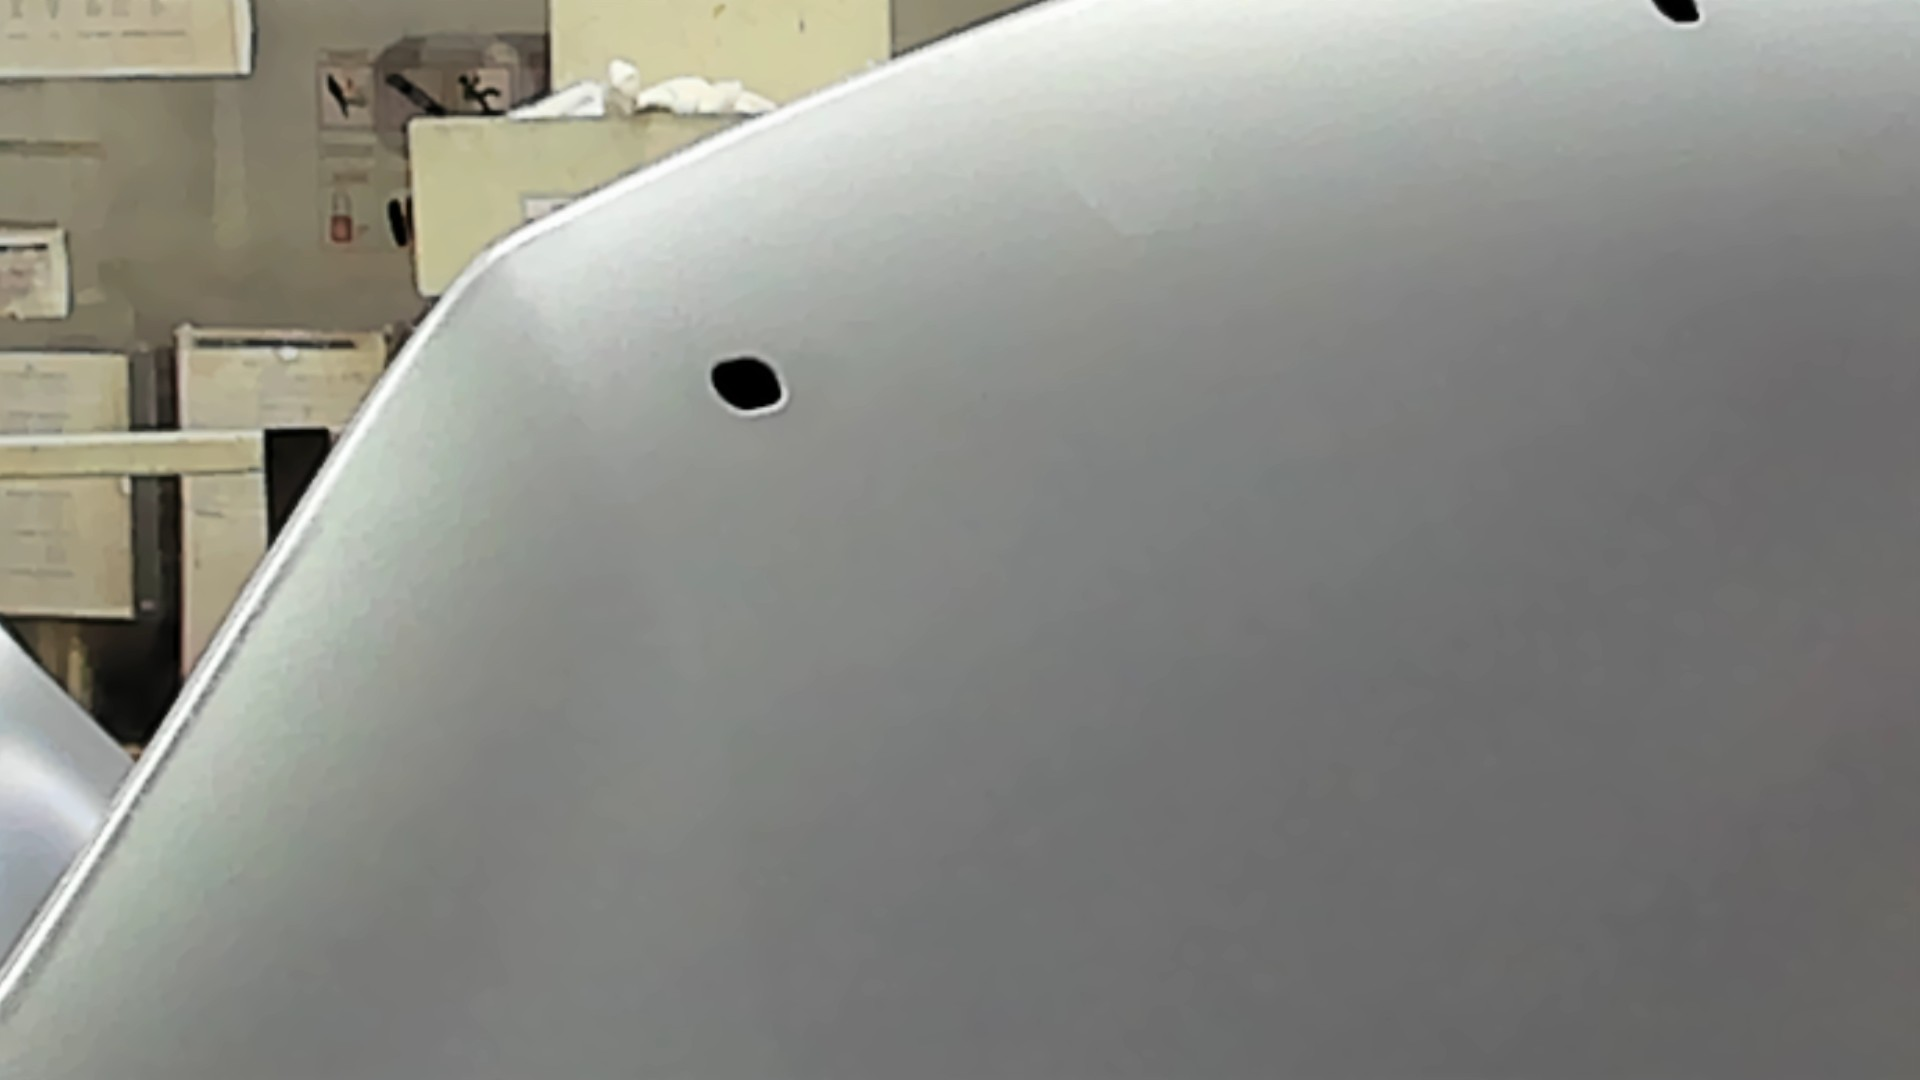amorfo: (704, 351, 793, 419), (1647, 1, 1710, 33)
